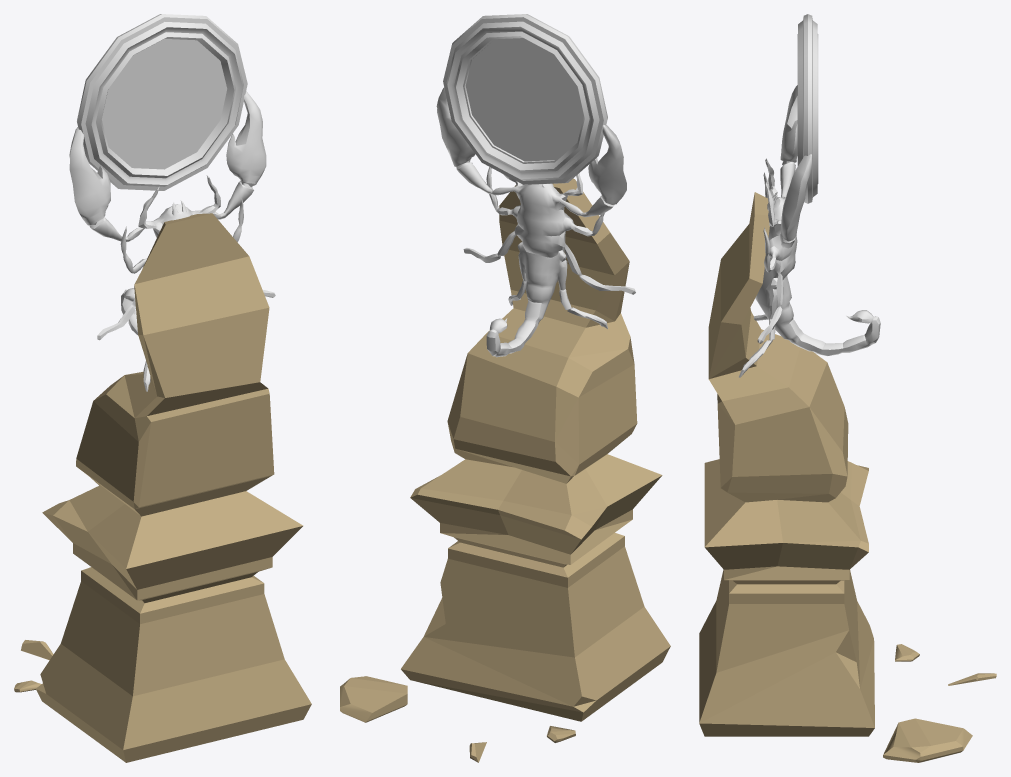
The model's file is SM_Scorpion_001.fbx.
3 views of the same model, side by side, from view 1: azimuth 30°, elevation 25°; view 2: azimuth 150°, elevation 25°; view 3: azimuth 270°, elevation 25° (orthographic). The views are drawn at different scales.
Visible parts, largest first — view 1: polySurface10, polySurface11, polySurface5; view 2: polySurface10, polySurface11, polySurface5; view 3: polySurface10, polySurface11, polySurface5.
Part boxes in pixels (box(x1,y1,x2,y2)): polySurface10: box(14, 485, 311, 762); polySurface11: box(69, 91, 275, 516); polySurface5: box(77, 14, 247, 190); polySurface10: box(340, 454, 670, 762); polySurface11: box(436, 87, 637, 483); polySurface5: box(443, 14, 607, 184); polySurface10: box(699, 459, 996, 762); polySurface11: box(708, 85, 880, 502); polySurface5: box(797, 14, 818, 203).
Bounding box in the file's own units: 164 × 463 × 184.
